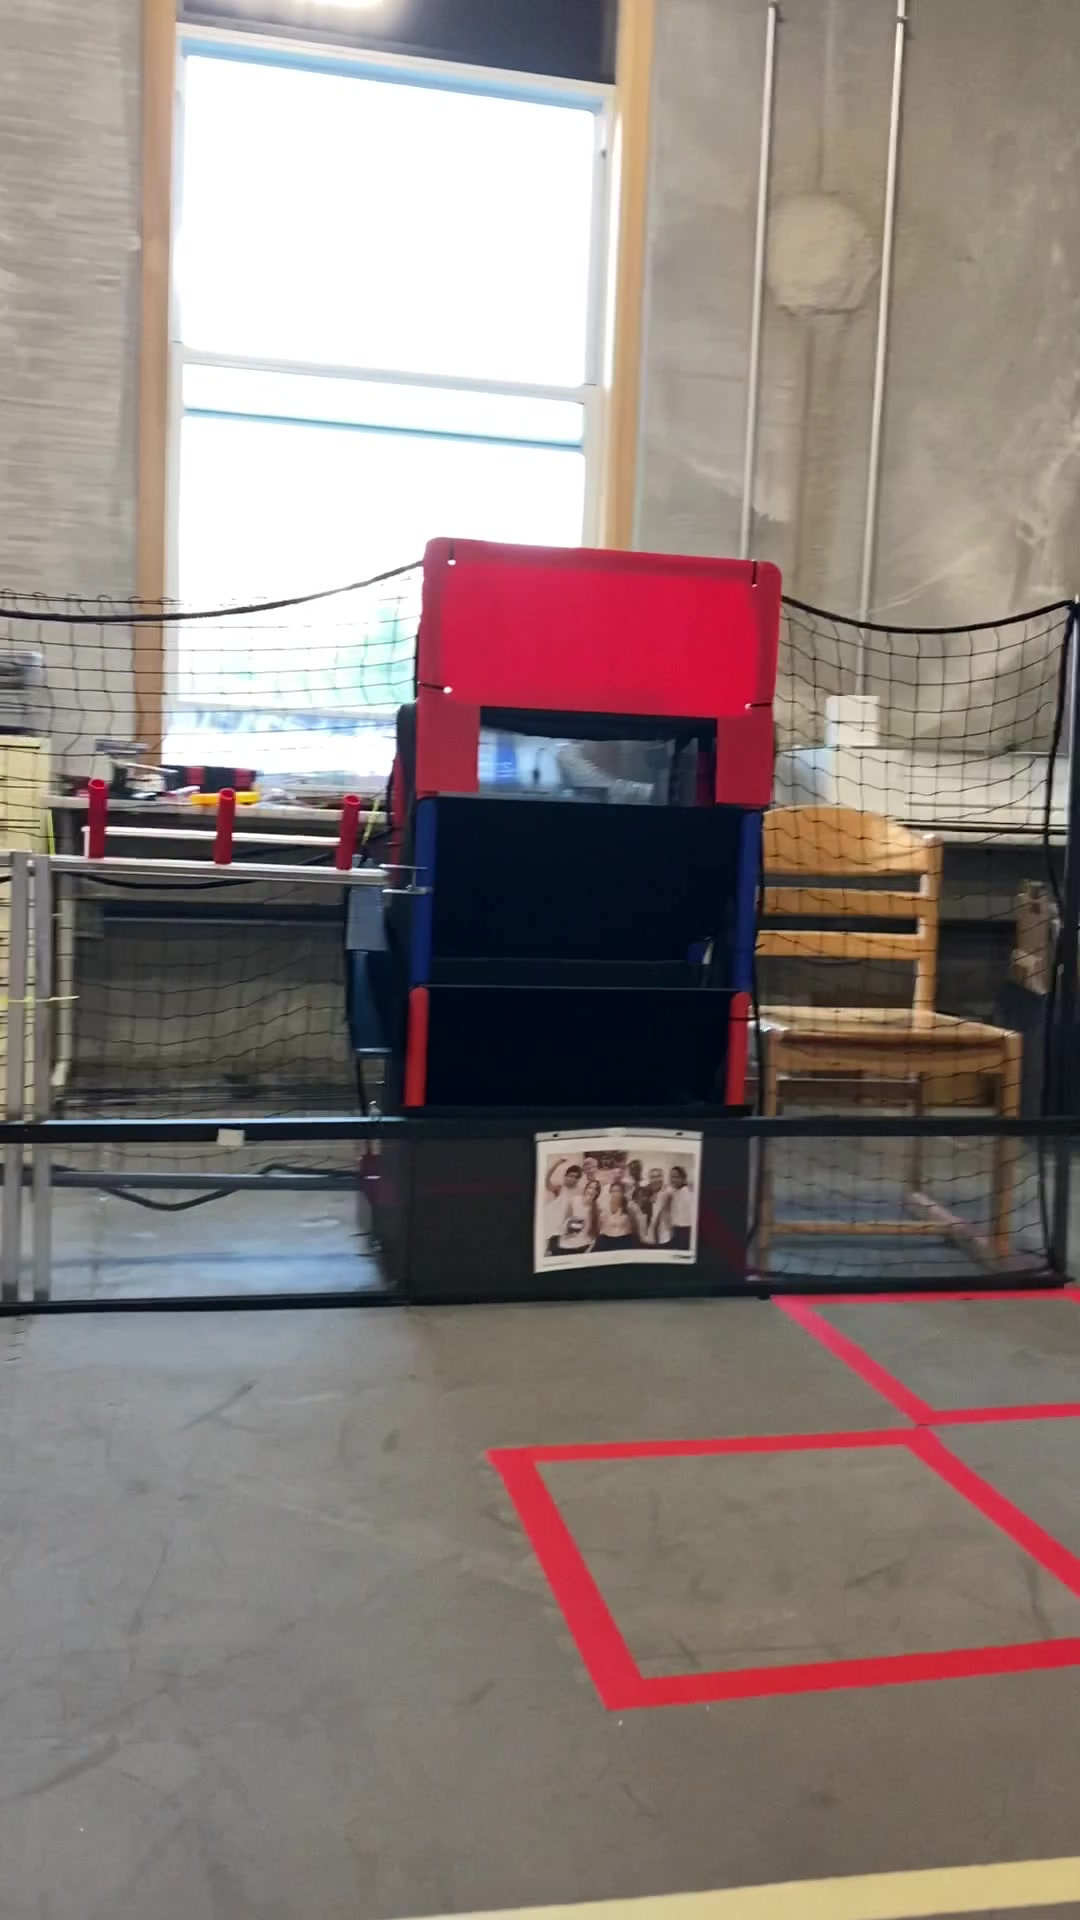high_goal: (477, 704, 729, 814)
